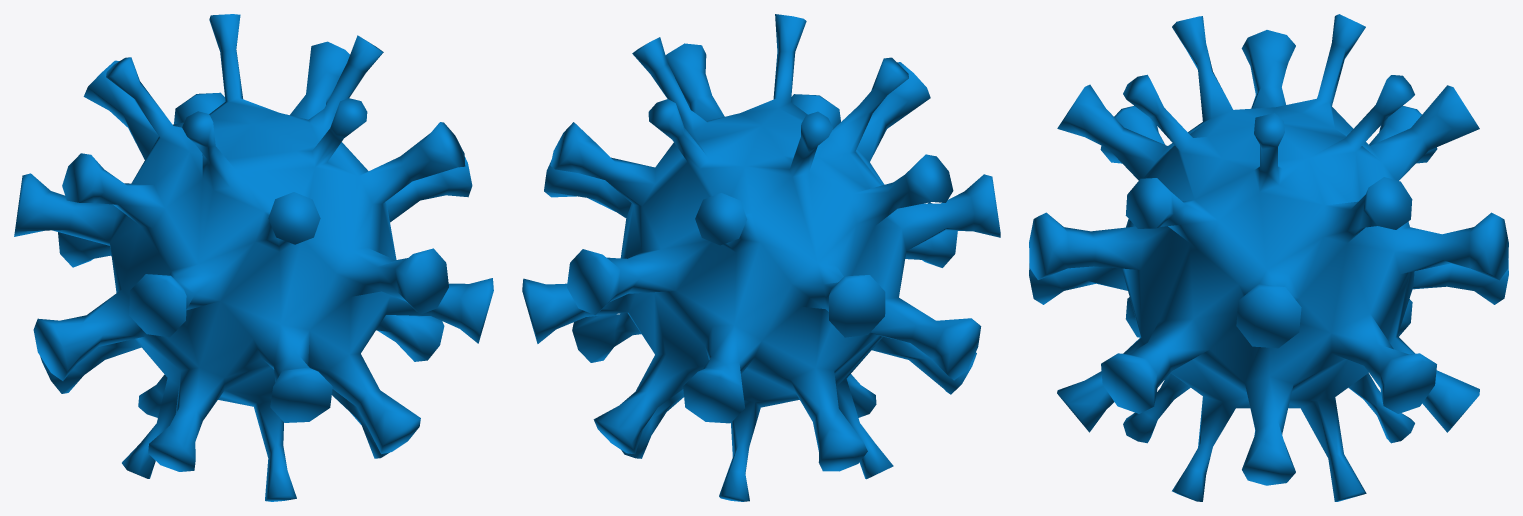
File: monster13.fbx
3 views of the same model, side by side, from view 1: azimuth 30°, elevation 25°; view 2: azimuth 150°, elevation 25°; view 3: azimuth 270°, elevation 25° (orthographic). The views are drawn at different scales.
Parts seen in each view (by area): view 1: monster13; view 2: monster13; view 3: monster13.
Part boxes in pixels (<box>): monster13: <box>14,14,493,501</box>; monster13: <box>522,14,1000,501</box>; monster13: <box>1029,14,1508,501</box>.
Bounding box in the file's own units: 55.37 × 49.04 × 53.54.
